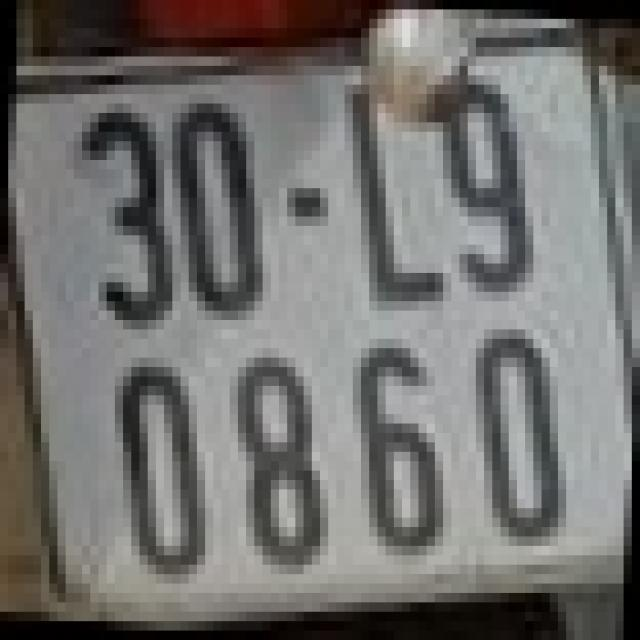0: (114, 358, 206, 574), (476, 329, 566, 546), (180, 104, 262, 320)
3: (81, 103, 172, 330)
6: (353, 338, 443, 556)
8: (238, 348, 328, 574)
9: (442, 56, 534, 292)
L: (344, 94, 452, 301)
